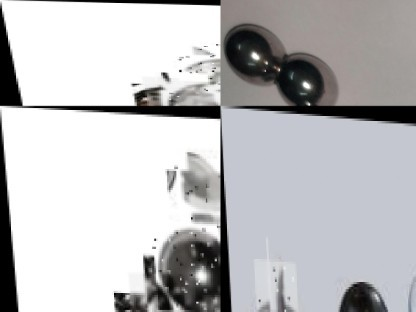ironball: (152, 220, 223, 312), (222, 18, 289, 85), (275, 46, 347, 106), (168, 151, 224, 214), (163, 51, 221, 104), (125, 271, 183, 311)
